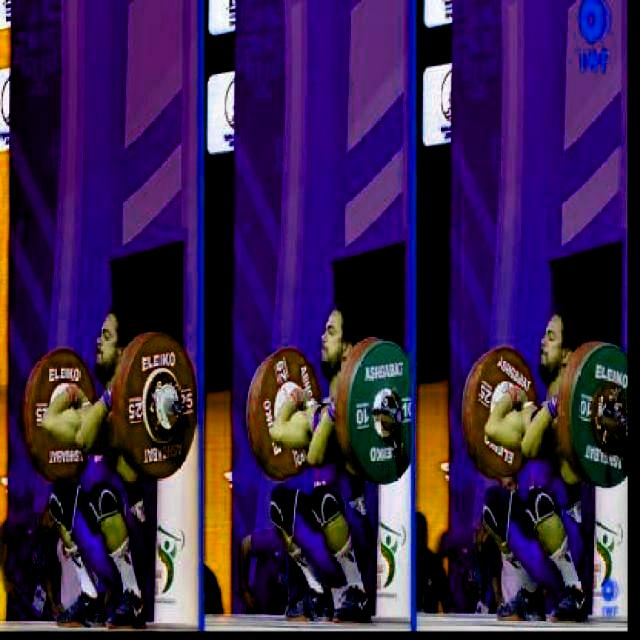barbell: (121, 327, 200, 485), (565, 342, 630, 494), (347, 337, 407, 485)
